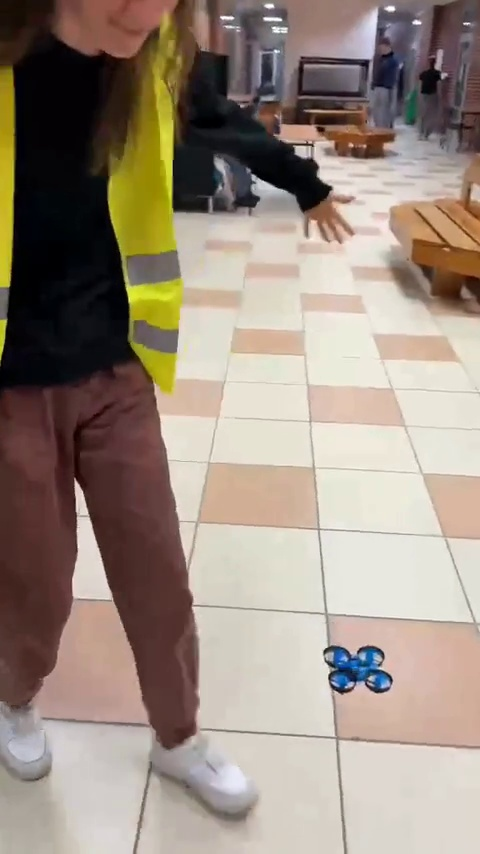drone: (319, 640, 397, 694)
no vest: (411, 50, 446, 138), (371, 39, 400, 130)
vest: (0, 0, 248, 817)
